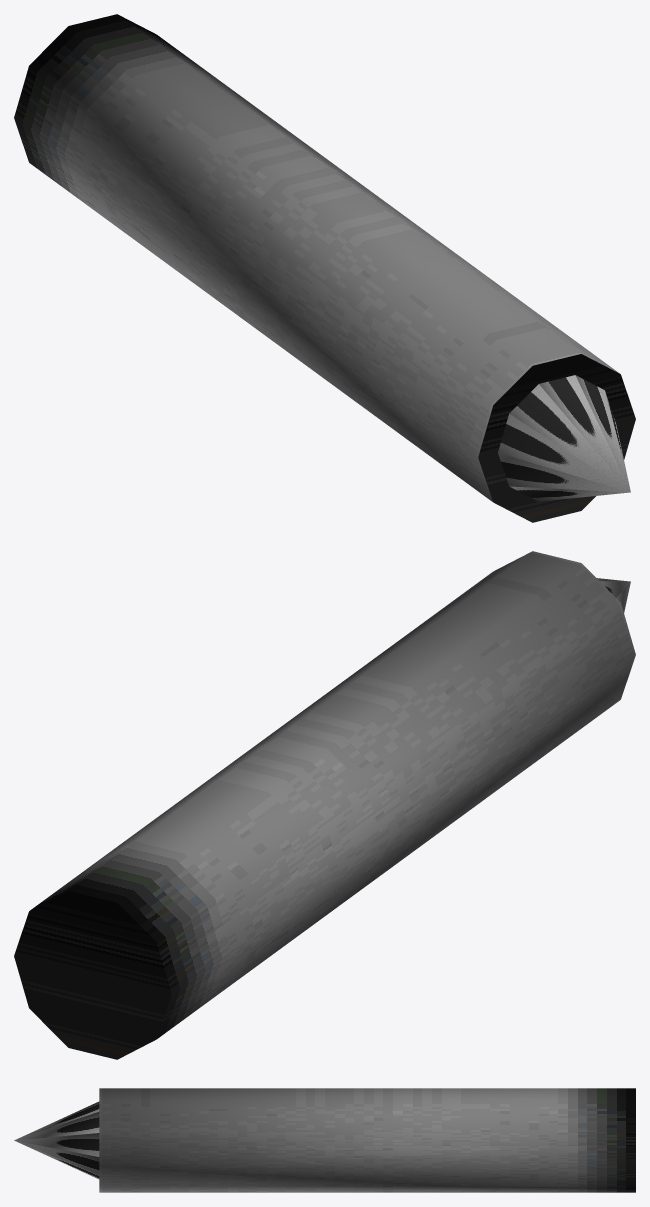
The model's file is RocketLauncherGuns.fbx.
The picture shows the model from 3 angles, top to bottom: view 1: azimuth 30°, elevation 25°; view 2: azimuth 150°, elevation 25°; view 3: azimuth 270°, elevation 25°; orthographic projection. The views are drawn at different scales.
Parts seen in each view (by area): view 1: RocketLauncherGuns; view 2: RocketLauncherGuns; view 3: RocketLauncherGuns.
Part boxes in pixels (box(x1,y1,x2,y2)): RocketLauncherGuns: box(14, 14, 635, 522); RocketLauncherGuns: box(14, 551, 635, 1059); RocketLauncherGuns: box(14, 1088, 635, 1192).
Bounding box in the file's own units: 28.5 × 27.11 × 168.
